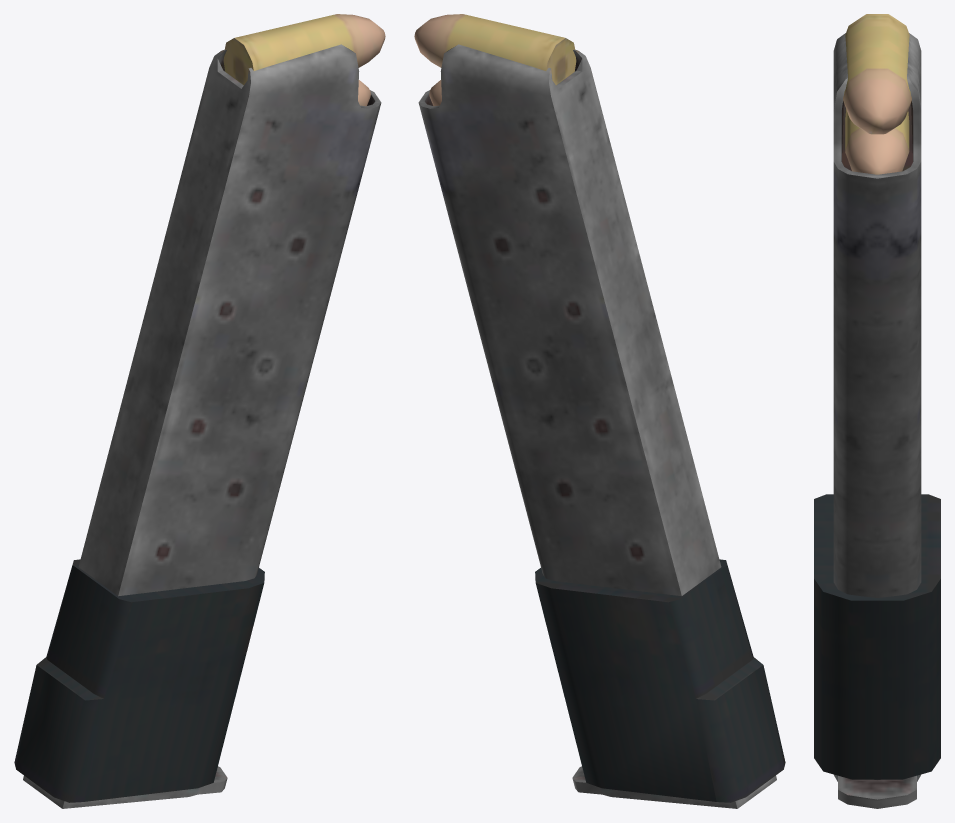
File: ST_MAG_EX_M1911.FBX
3 views of the same model, side by side, from view 1: azimuth 30°, elevation 25°; view 2: azimuth 150°, elevation 25°; view 3: azimuth 270°, elevation 25° (orthographic). The views are drawn at different scales.
Visible parts, largest first — view 1: ST_MAG_EX_M1911; view 2: ST_MAG_EX_M1911; view 3: ST_MAG_EX_M1911.
Boxes of the visible parts, <box> form: ST_MAG_EX_M1911: <box>14,14,385,808</box>; ST_MAG_EX_M1911: <box>414,14,785,808</box>; ST_MAG_EX_M1911: <box>814,14,940,808</box>.
Size of the model in its own units: 7.7 by 15.41 by 2.2.
Materials: 1 (1 with a texture image).
